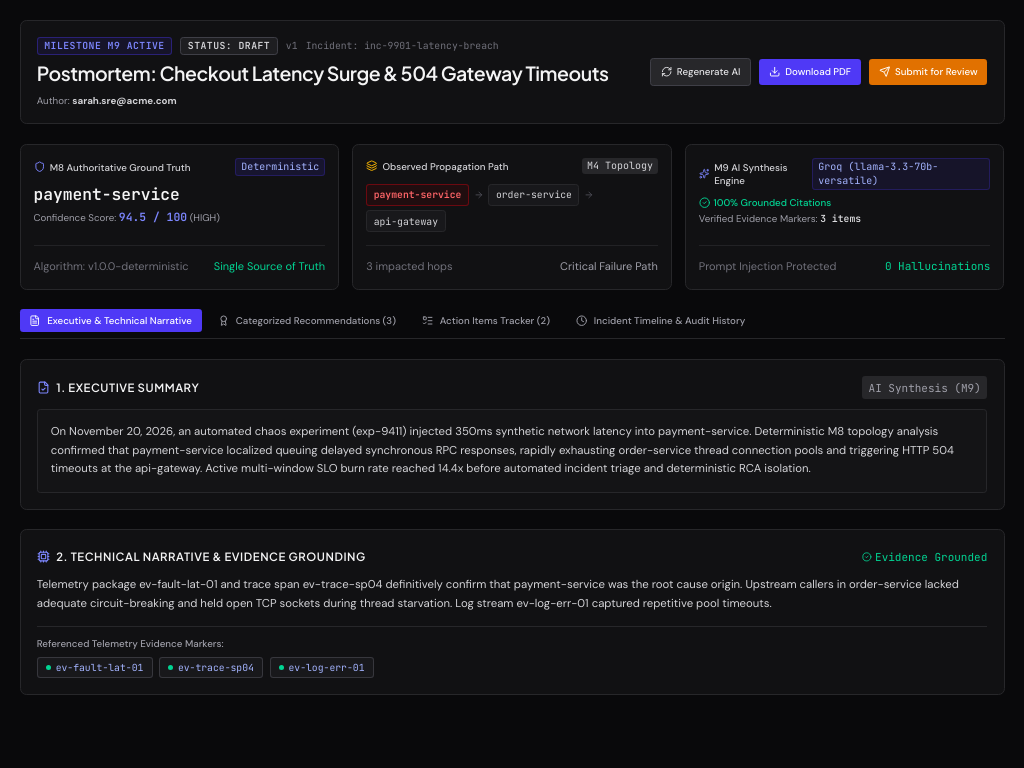
Test: Milestone M9: AI-Assisted RCA Explanations & Incident Postmortems › navigates between narrative, recommendations, action items, and timeline tabs
Expected: the button "Executive & Technical Narrative" is shown, [20,309,202,332]
Switch to Recommendations tab
Click the button "Categorized Recommendations (3)" at (307, 321), box [208,309,406,332]
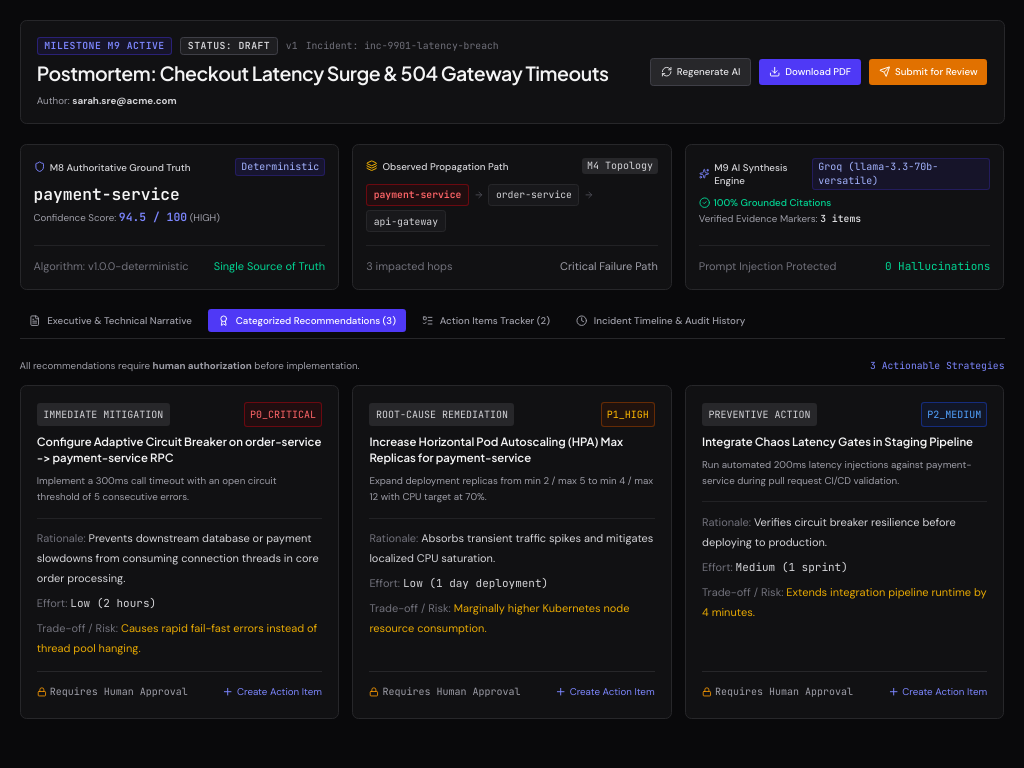
Expected: the text "Immediate Mitigation" is shown, [37,403,170,426]
Expected: the text "Root-Cause Remediation" is shown, [369,403,514,426]
Expected: the text "Preventive Action" is shown, [702,403,817,426]
Switch to Action Items tab
Click the button "Action Items Tracker (2)" at (486, 321), box [412,309,560,332]
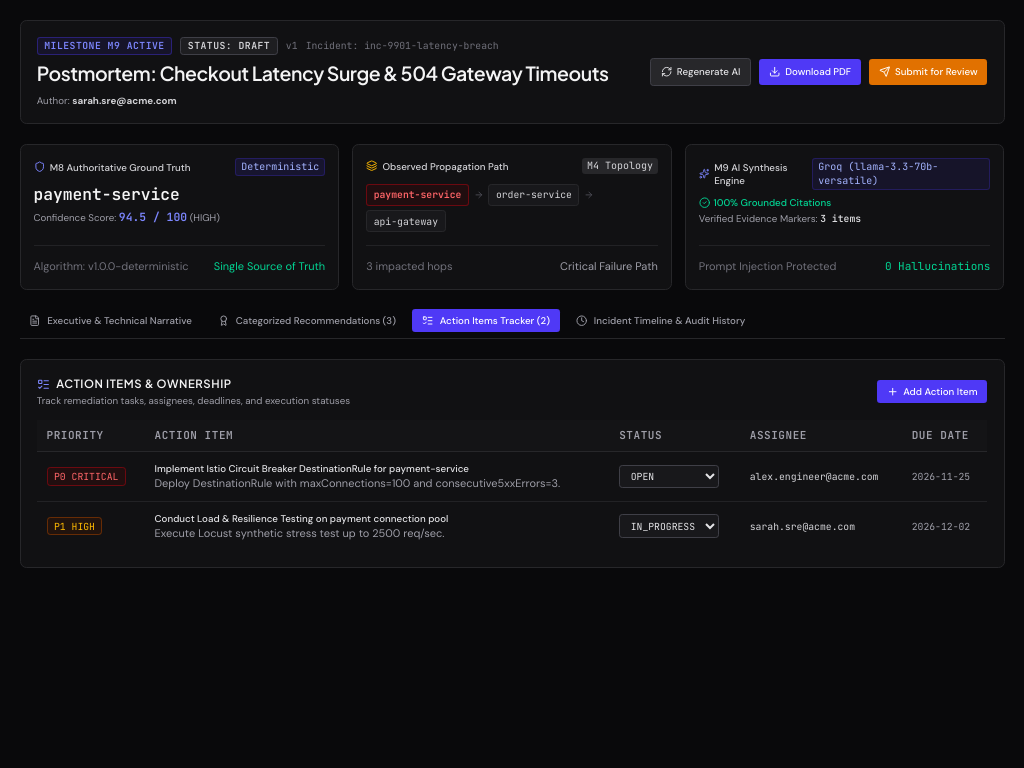
Expected: the heading "Action Items & Ownership" is shown, [37,376,232,391]
Expected: the text "Implement Istio Circuit Breaker DestinationRule for payment-service" is shown, [154,462,469,475]
Switch to Timeline tab
Click the button "Incident Timeline & Audit History" at (661, 321), box [566,309,755,332]
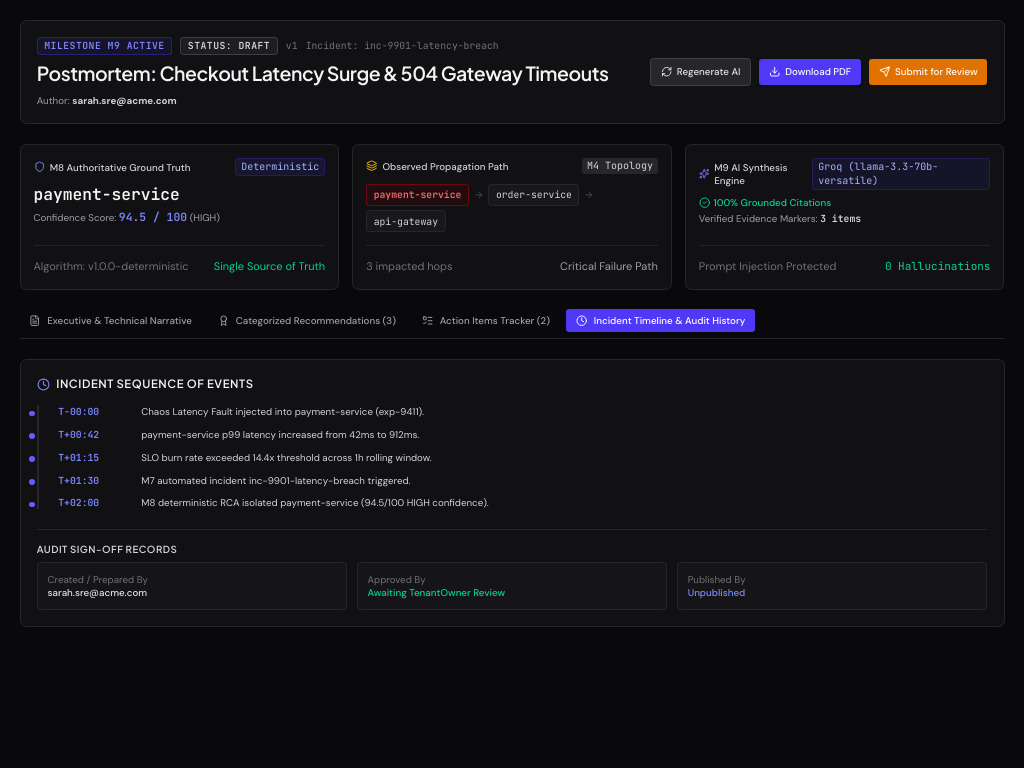
Expected: the heading "Incident Sequence of Events" is shown, [37,376,254,391]
Expected: the text "T-00:00" is shown, [58,406,99,418]
Expected: the text "T+02:00" is shown, [58,496,99,510]
